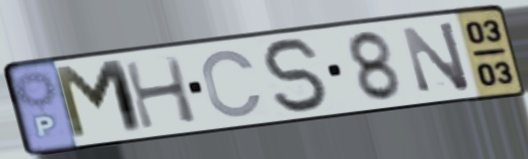8: (345, 28, 403, 104)
C: (198, 47, 266, 120)
H: (120, 53, 201, 132)
M: (48, 56, 150, 145)
N: (397, 17, 475, 96)
S: (258, 36, 336, 116)
